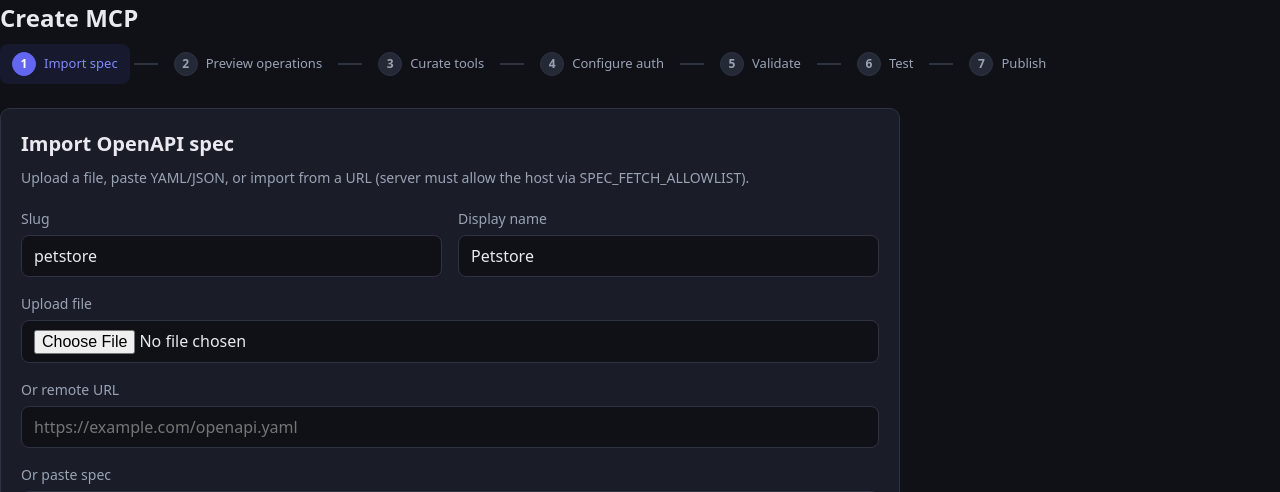
WizardShell › navigates to curate step via stepper when IR is loaded
Expected: the heading "Import OpenAPI spec" is shown, [21,130,234,157]
Click the button "3 Curate tools": (431,64) [366,44,496,84]
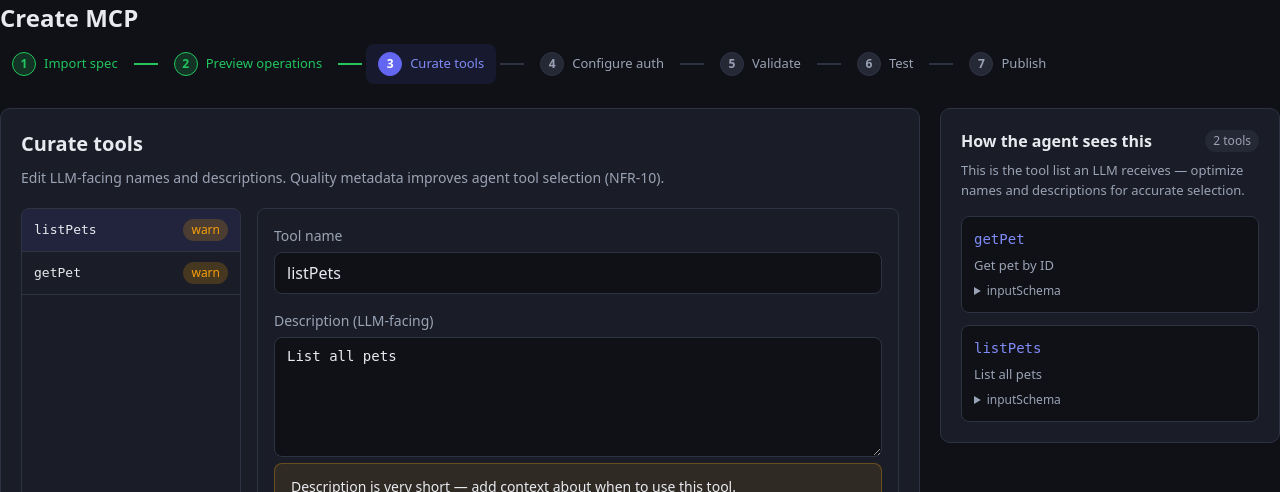
Now the heading "Curate tools" is shown, box [21,130,143,157]
